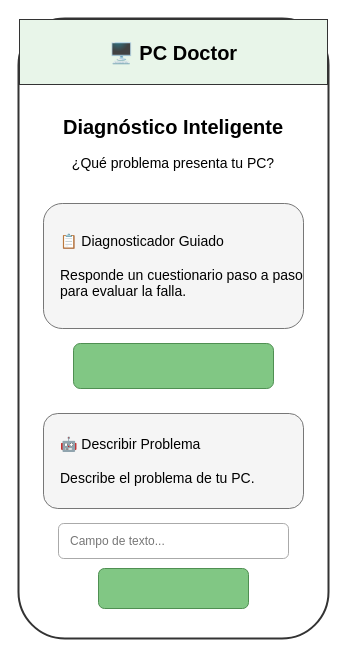
Image size: 346x656. Some labels were removed from this diagram. The centre of each missing label's shape, as x and y in pixels:
"ANALIZAR CON IA" belongs at point (173, 588).
"INICIAR DIAGNÓSTICO" belongs at point (173, 365).
